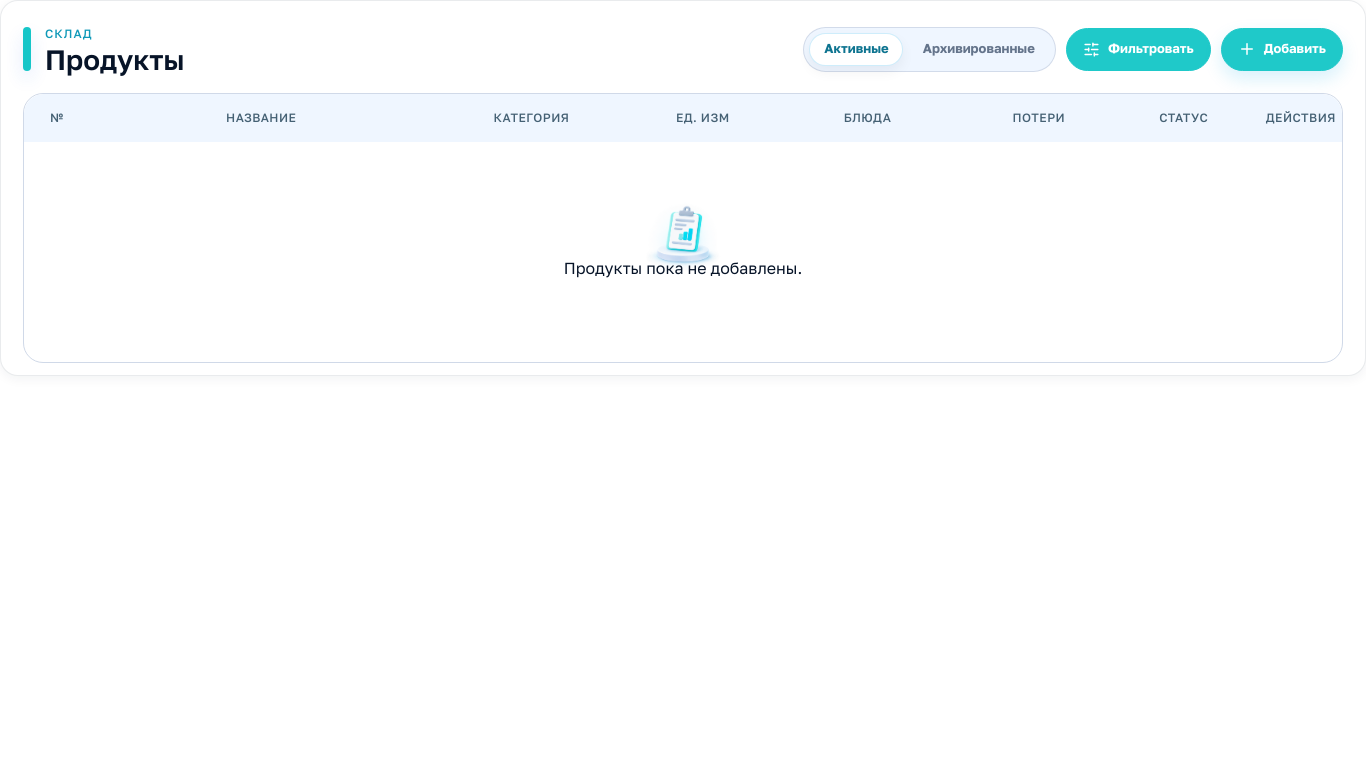
Scenario: RAW V2 Dishes visual family › 9. add drawer follows dish family without photo, PLU or supplier
The width and height of the screenshot is (1366, 768).
Expected: the text "Продукты пока не добавлены." is shown, [564, 258, 802, 280]
Click the button "Добавить".
click(1282, 49)  # box [1221, 28, 1343, 70]
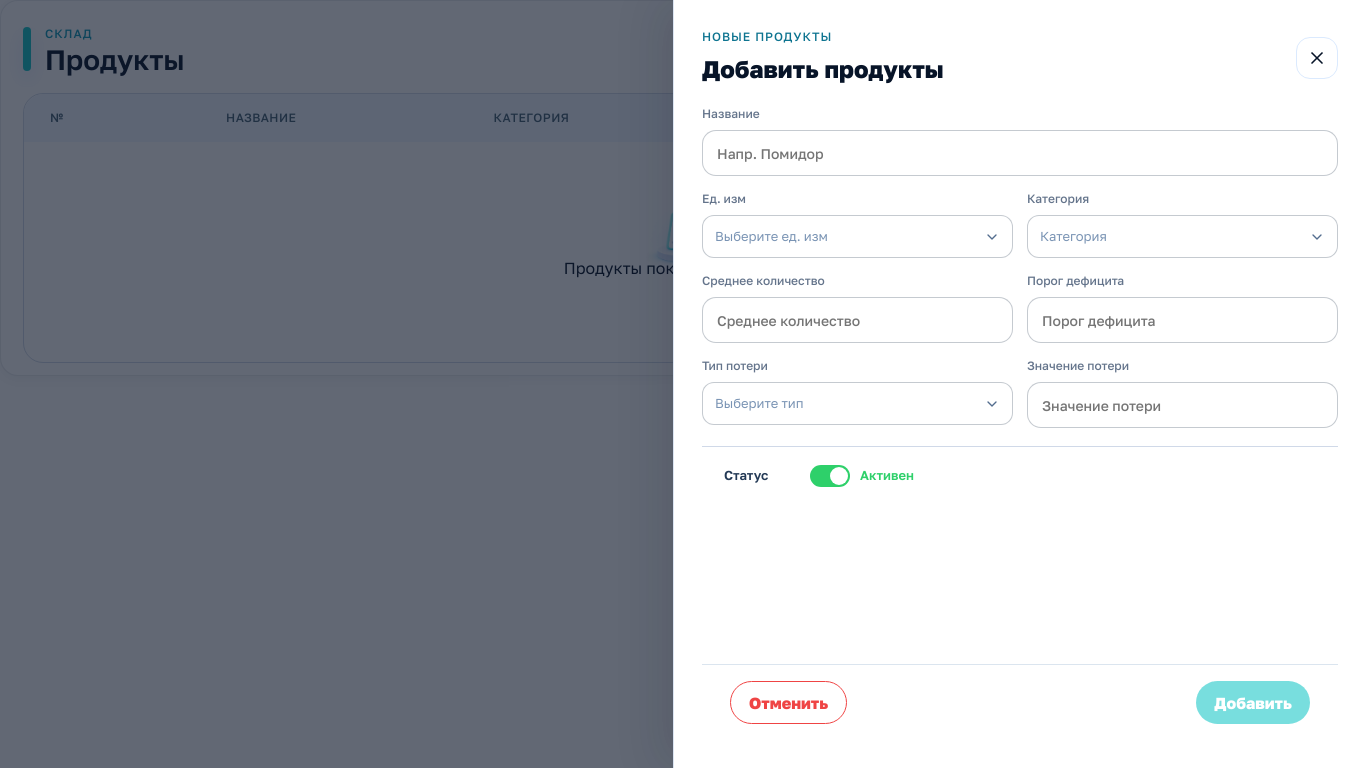
Expected: the heading "Добавить продукты" is shown, [702, 51, 944, 87]
Expected: the text "Новые продукты" is shown, [702, 29, 832, 44]
Expected: the field with placeholder "Напр. Помидор" is shown, [702, 130, 1338, 176]
